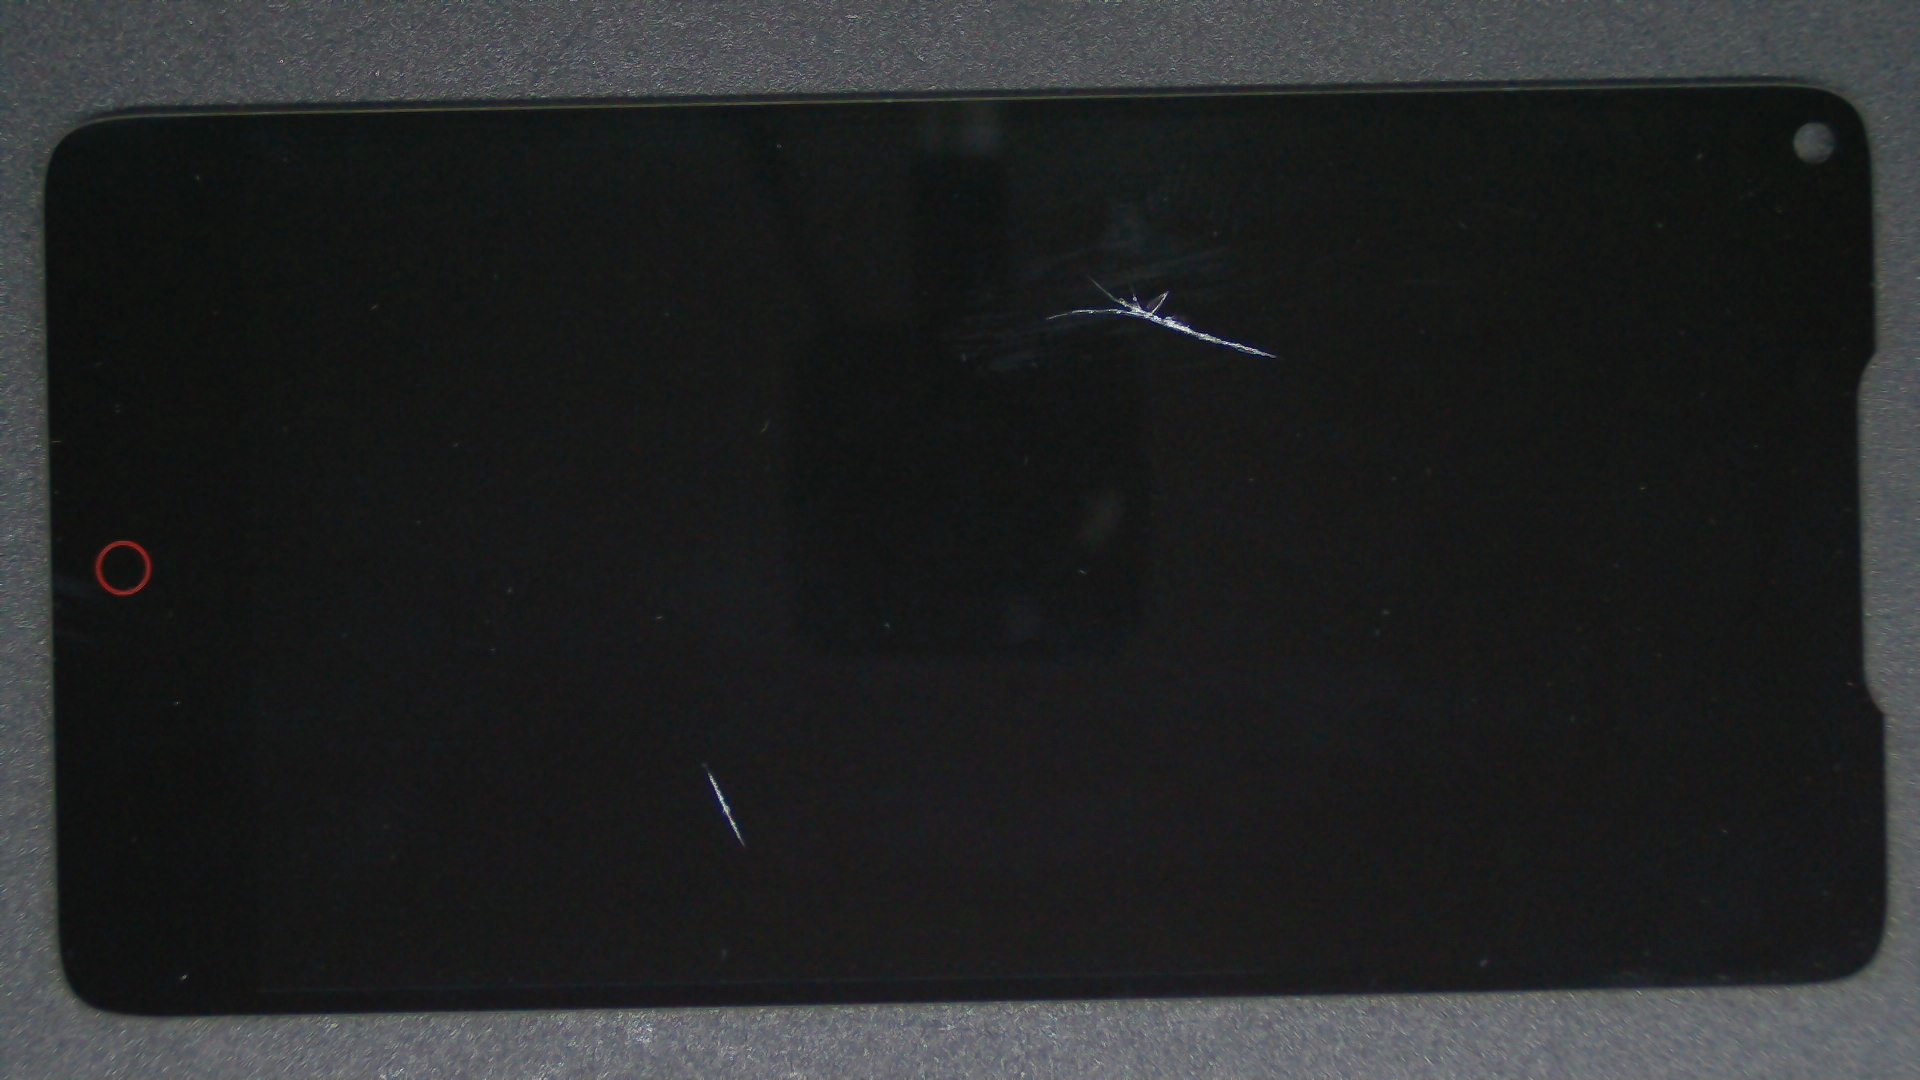oil: (353, 384, 1060, 1080), (545, 137, 1634, 414)
